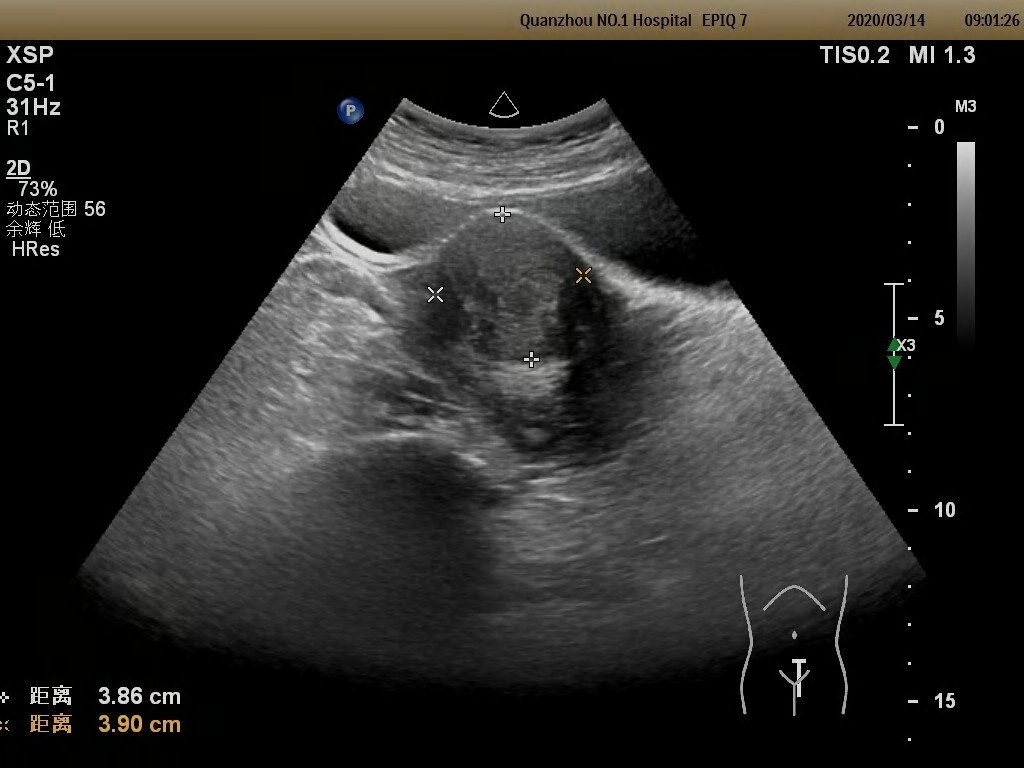肌瘤: (433, 212, 587, 364)
